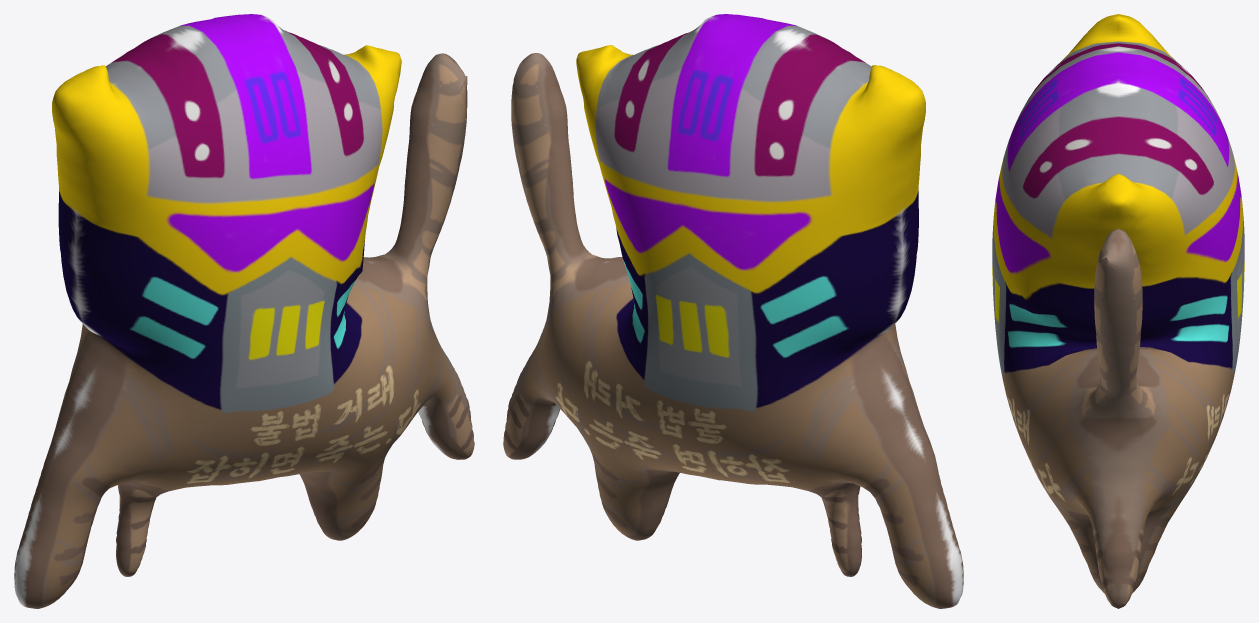
File: RoboTiger15.glb
3 renders of one model, left to right at view 1: azimuth 30°, elevation 25°; view 2: azimuth 150°, elevation 25°; view 3: azimuth 270°, elevation 25°, orthographic. The views are drawn at different scales.
Size of the model in its own units: 5.02 by 5.7 by 2.68.
Materials: 1 (1 with a texture image).
